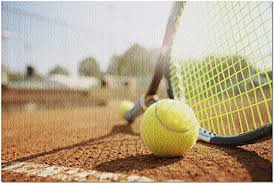tennis_ball: (136, 97, 202, 159)
